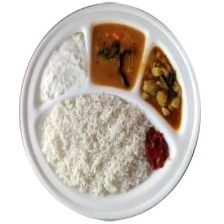dal: (85, 19, 147, 91)
